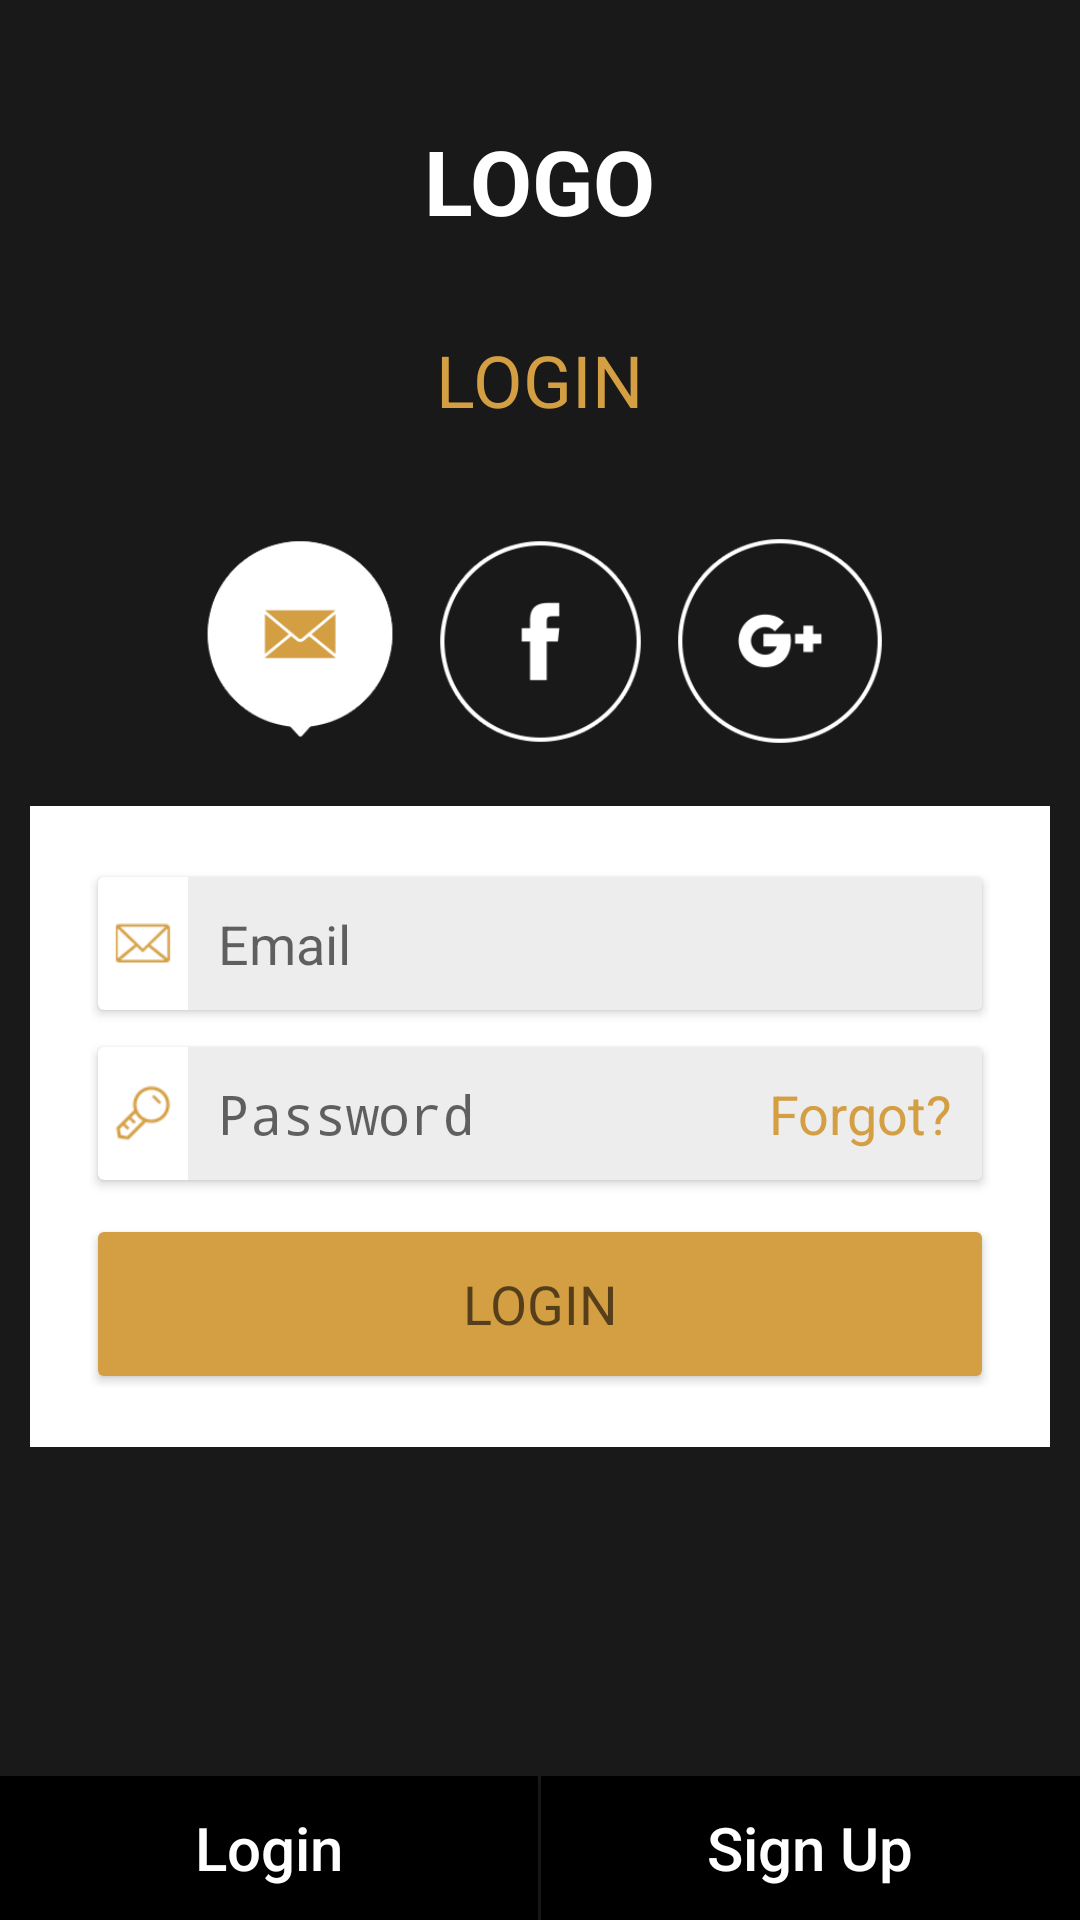

Locate icon controls on the screen. Image size 1080w x 1920h, boxes as (x1, y1, x2, y2).
msge: (207, 541, 393, 737)
